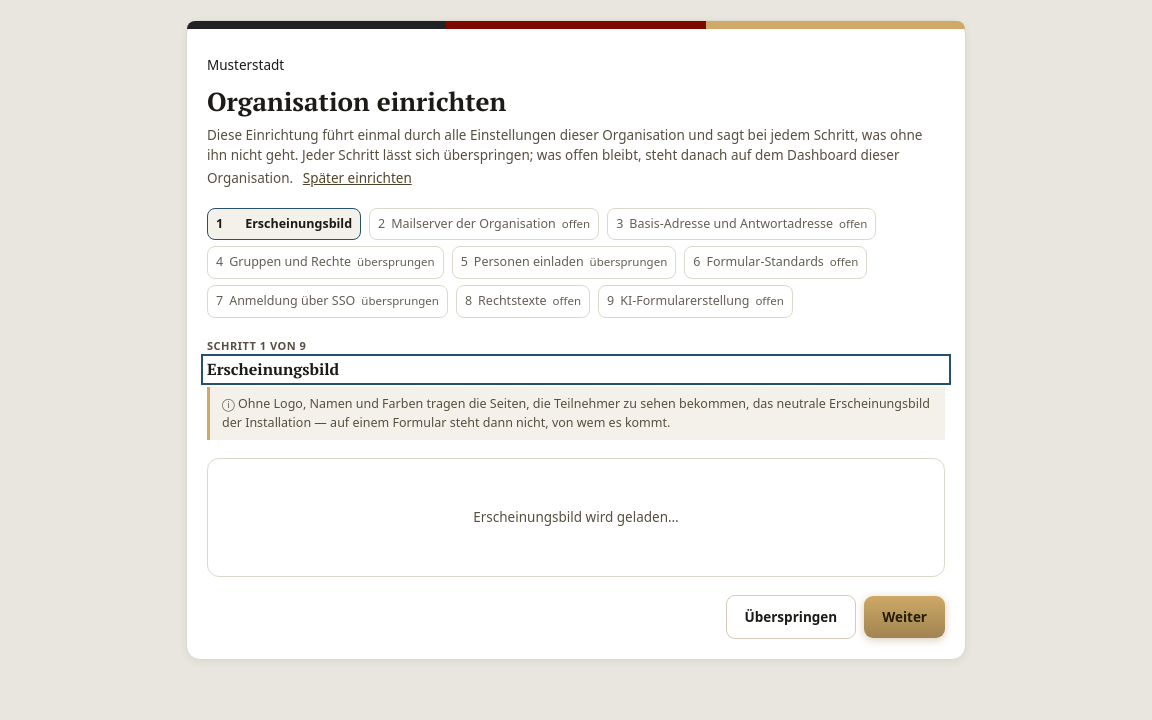
Test case: TenantSetupView › überspringt einen Schritt sichtbar, für den das Recht fehlt — statt ihn als Formular zu zeigen
This screenshot has width=1152, height=720.
Click the button "Überspringen". click: click(791, 616)
box: [726, 594, 856, 638]
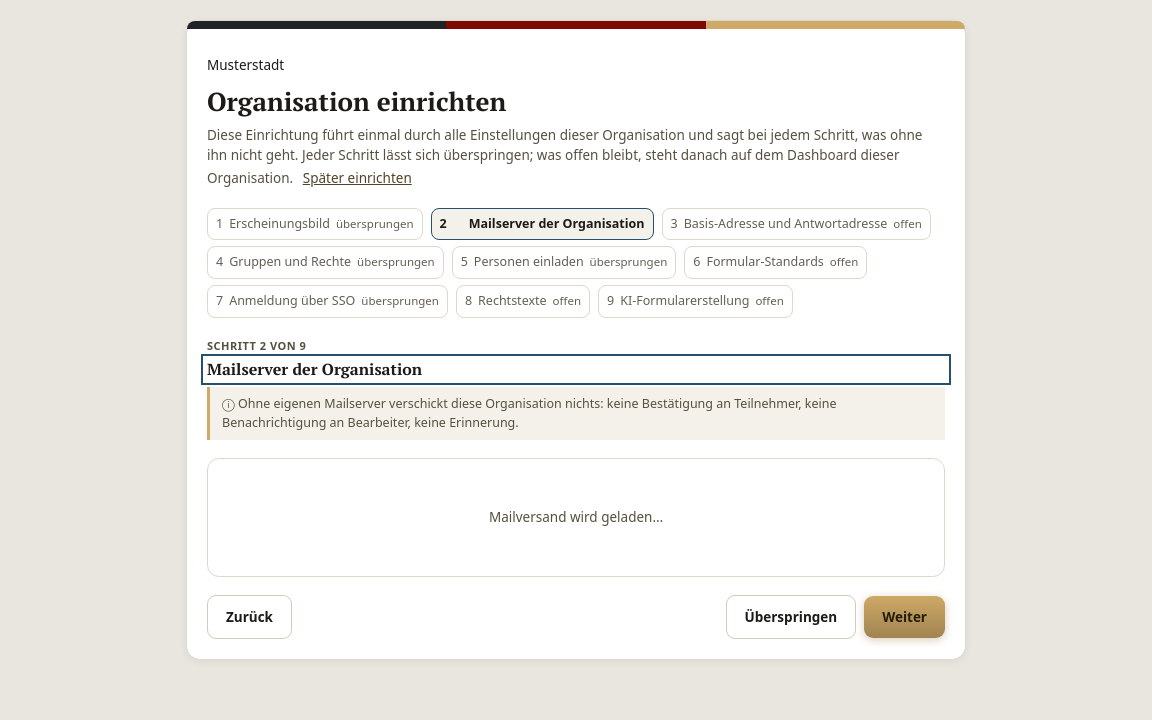
Click the button "Überspringen". click: click(791, 616)
box: [726, 594, 856, 638]
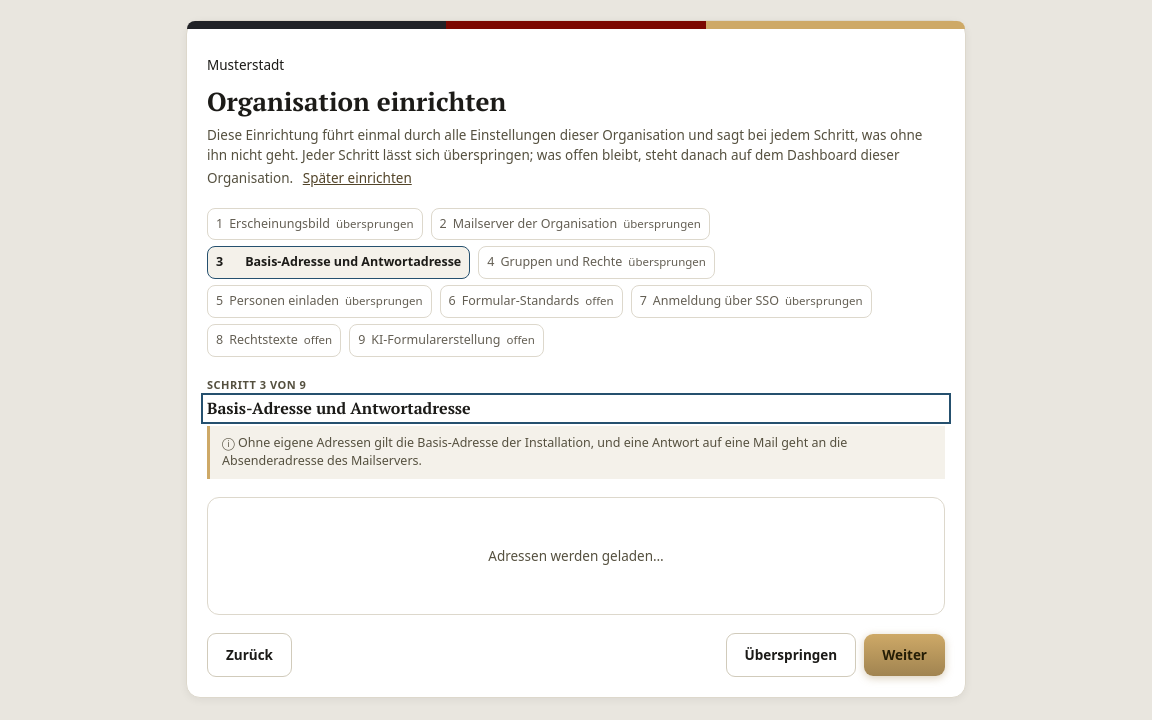
Click the button "Überspringen". click: click(791, 655)
box: [726, 633, 856, 677]
(page scrolled)
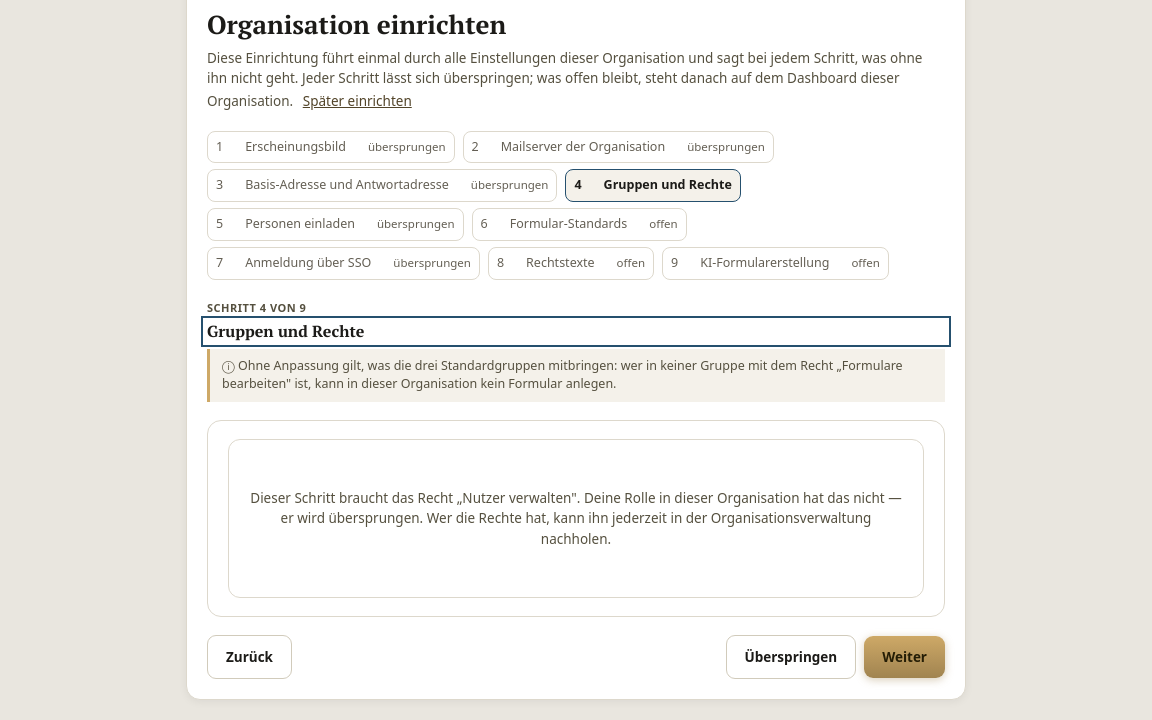
expect the button "Weiter" is shown: met, box [864, 636, 945, 678]
expect the text "„Nutzer verwalten\"" is shown: met, box [250, 489, 902, 548]
